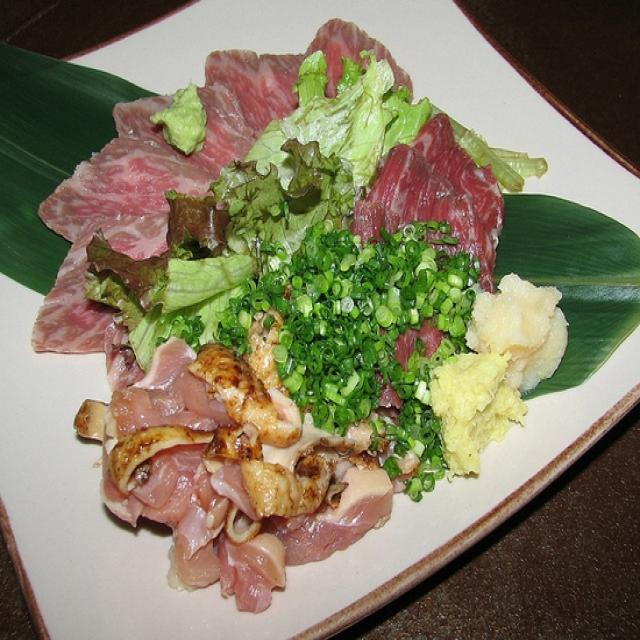刺身生食: (23, 24, 588, 608)
